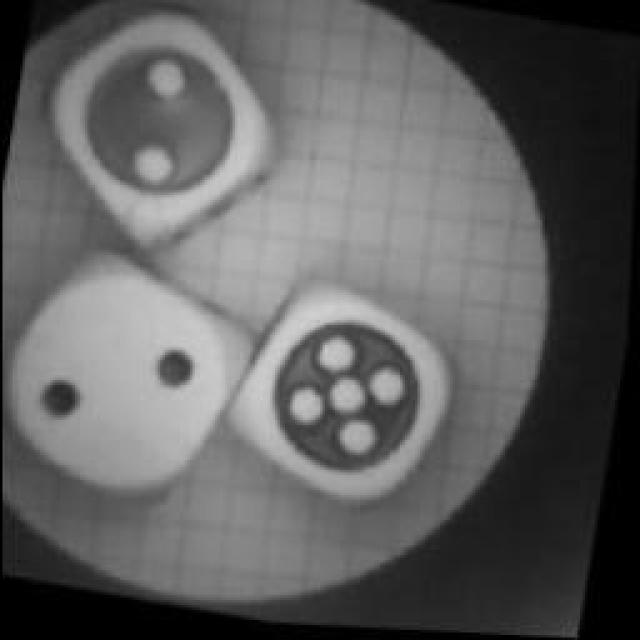dice_2: (0, 232, 275, 530), (20, 0, 305, 272)
dice_5: (210, 268, 475, 538)
